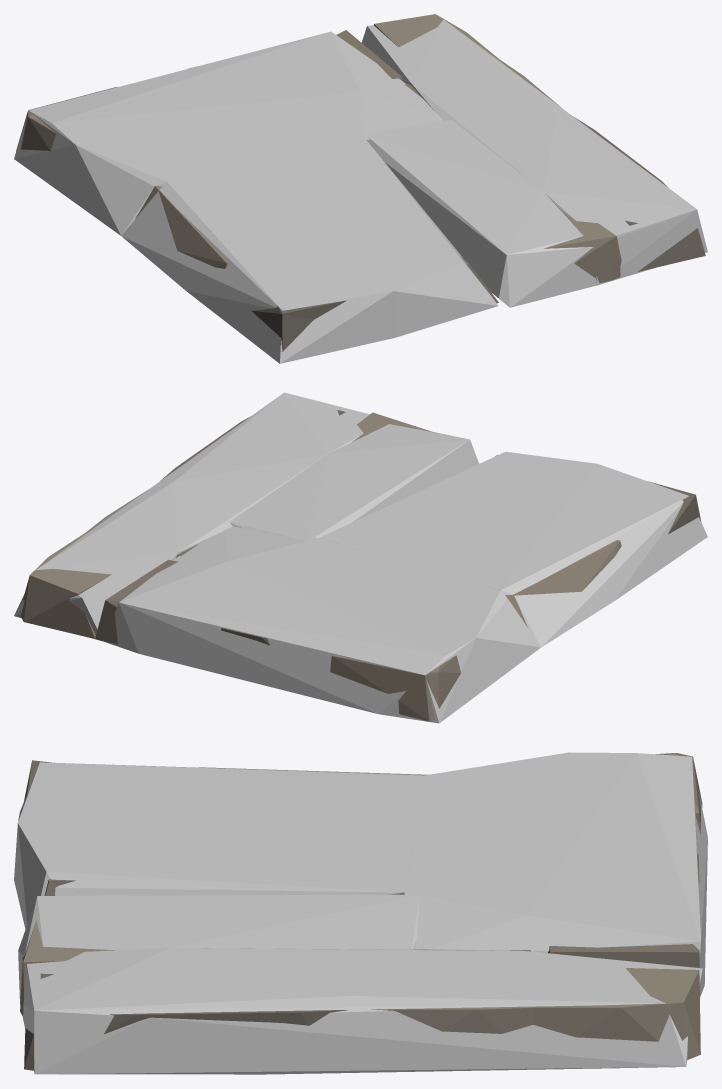
File: SM_Env_Footpath_01.fbx
3 views of the same model, one above another, from view 1: azimuth 30°, elevation 25°; view 2: azimuth 150°, elevation 25°; view 3: azimuth 270°, elevation 25° (orthographic). The views are drawn at different scales.
Visible parts, largest first — view 1: SM_Env_Footpath_01_ConvexHulls, SM_Env_Footpath_01; view 2: SM_Env_Footpath_01_ConvexHulls, SM_Env_Footpath_01; view 3: SM_Env_Footpath_01_ConvexHulls, SM_Env_Footpath_01.
Boxes of the visible parts, x1=… form: SM_Env_Footpath_01_ConvexHulls: x1=14, y1=19, x2=707, y2=363; SM_Env_Footpath_01: x1=16, y1=14, x2=705, y2=351; SM_Env_Footpath_01_ConvexHulls: x1=14, y1=392, x2=707, y2=723; SM_Env_Footpath_01: x1=20, y1=410, x2=701, y2=721; SM_Env_Footpath_01_ConvexHulls: x1=14, y1=752, x2=707, y2=1074; SM_Env_Footpath_01: x1=20, y1=753, x2=702, y2=1070.
Bounding box in the file's own units: 241 × 266 × 29.52.
2 materials, 1 textured.
